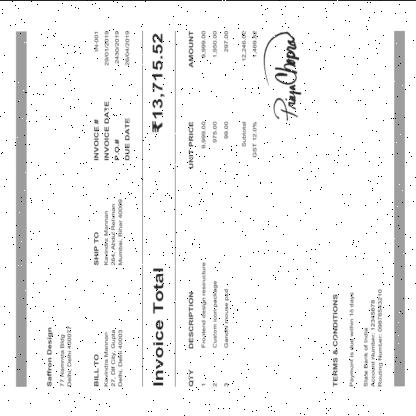Paragraph: (150, 30, 166, 388), (330, 286, 384, 390), (92, 28, 132, 161), (237, 26, 260, 162), (92, 196, 124, 267), (92, 326, 124, 389), (45, 324, 73, 388)
Table: (184, 24, 232, 393)
